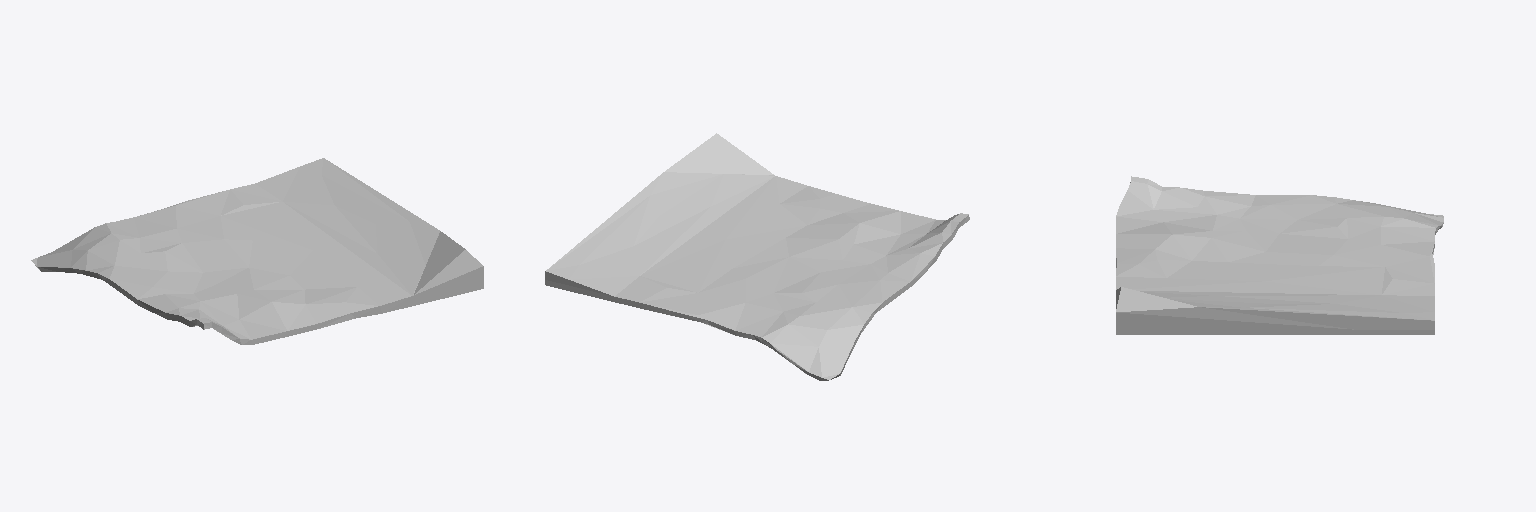
File: floor.obj
3 views of the same model, side by side, from view 1: azimuth 30°, elevation 25°; view 2: azimuth 150°, elevation 25°; view 3: azimuth 270°, elevation 25° (orthographic).
Parts seen in each view (by area): view 1: Floor; view 2: Floor; view 3: Floor.
Part boxes in pixels (x1,y1,x2,y2): Floor: (31,158,483,344); Floor: (545,133,969,380); Floor: (1116,176,1443,334).
Size of the model in its own units: 260 by 56.25 by 254.